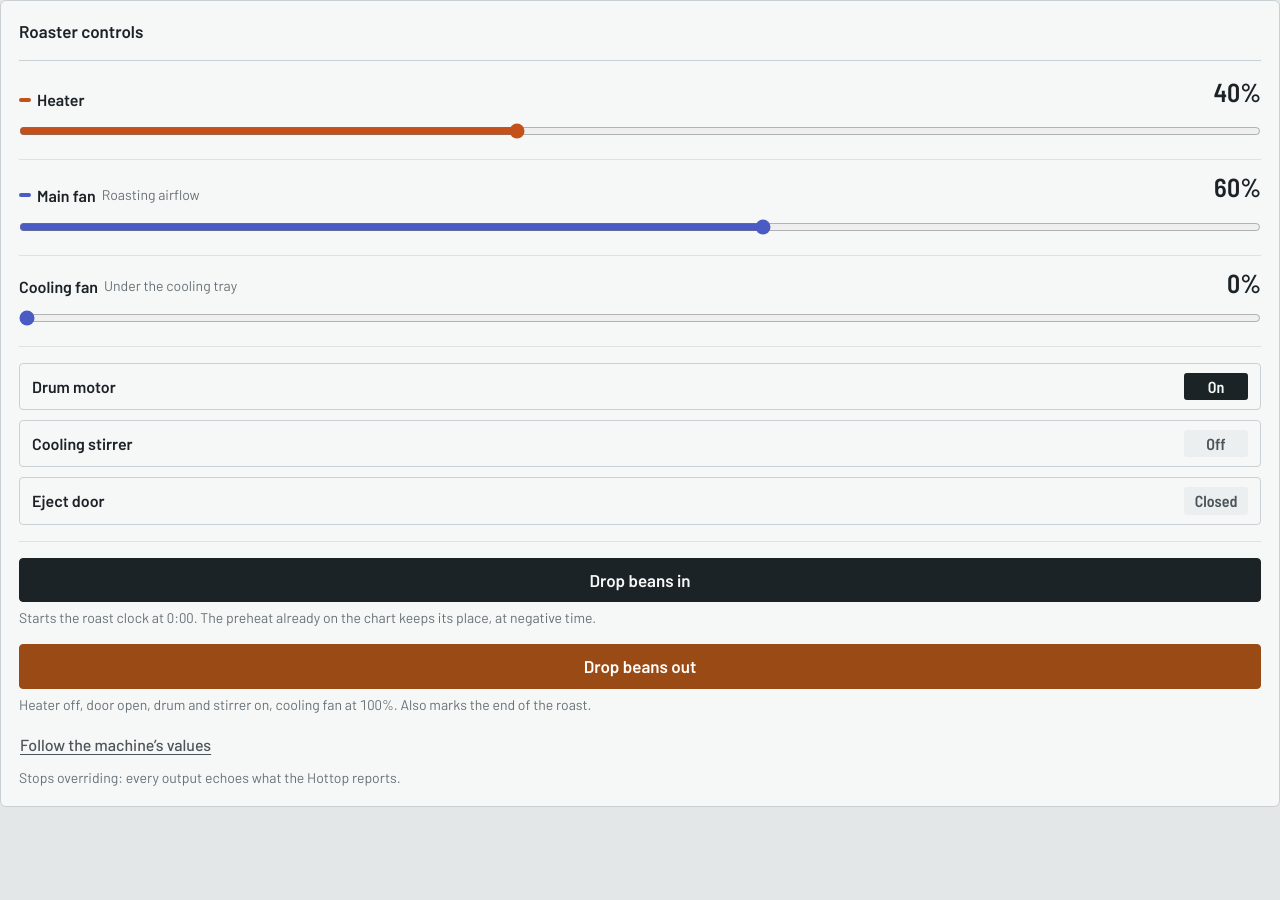
it: control panel › moves the heater with the slider
Set the slider labelled "Heater" to "85" at (1069,131), box [19,117,1261,145]
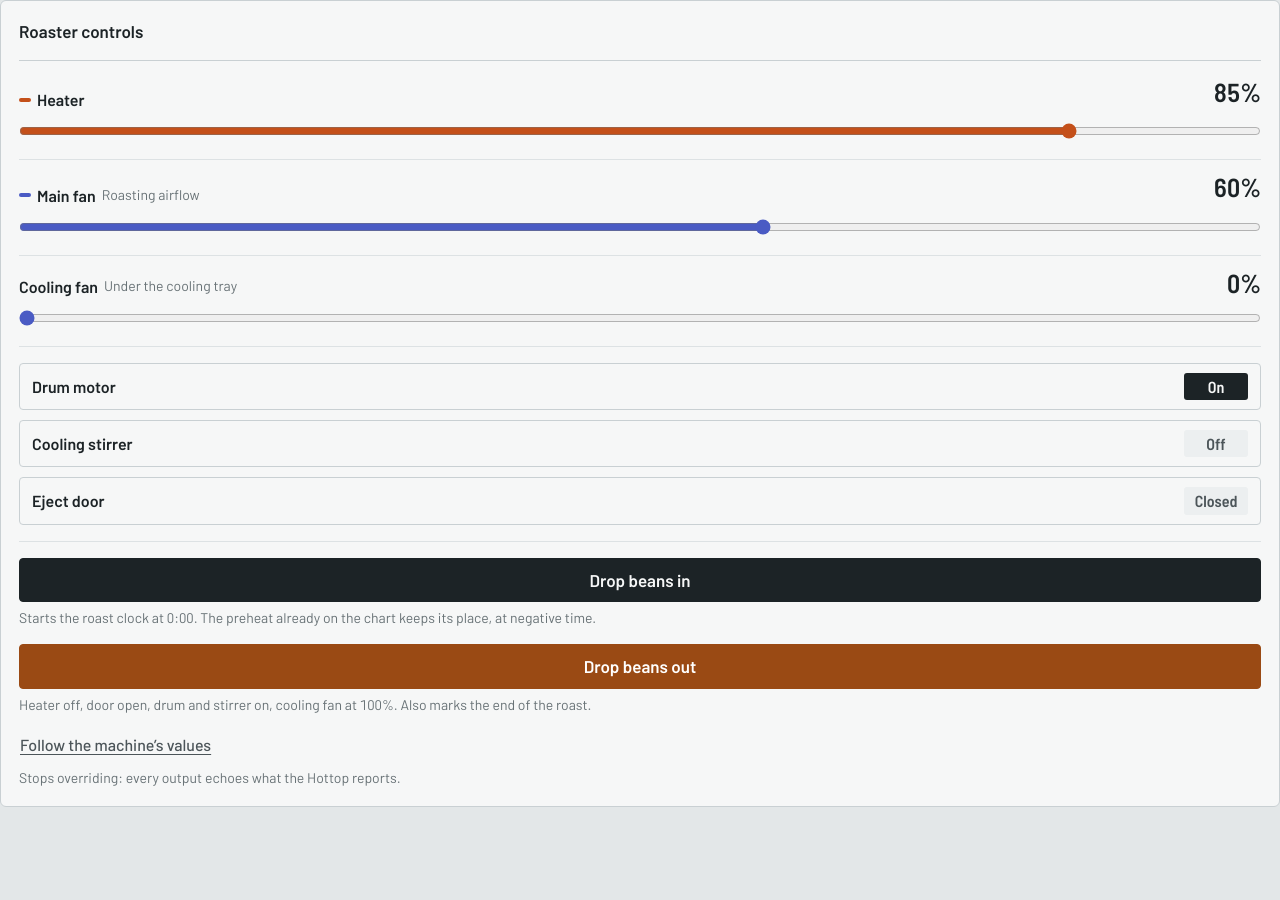
Check: the text "85%" is shown, box [1214,79,1261,105]
